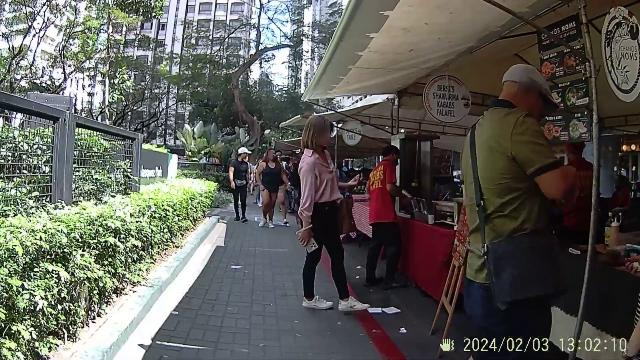street_vendor_cart: (387, 75, 469, 302)
